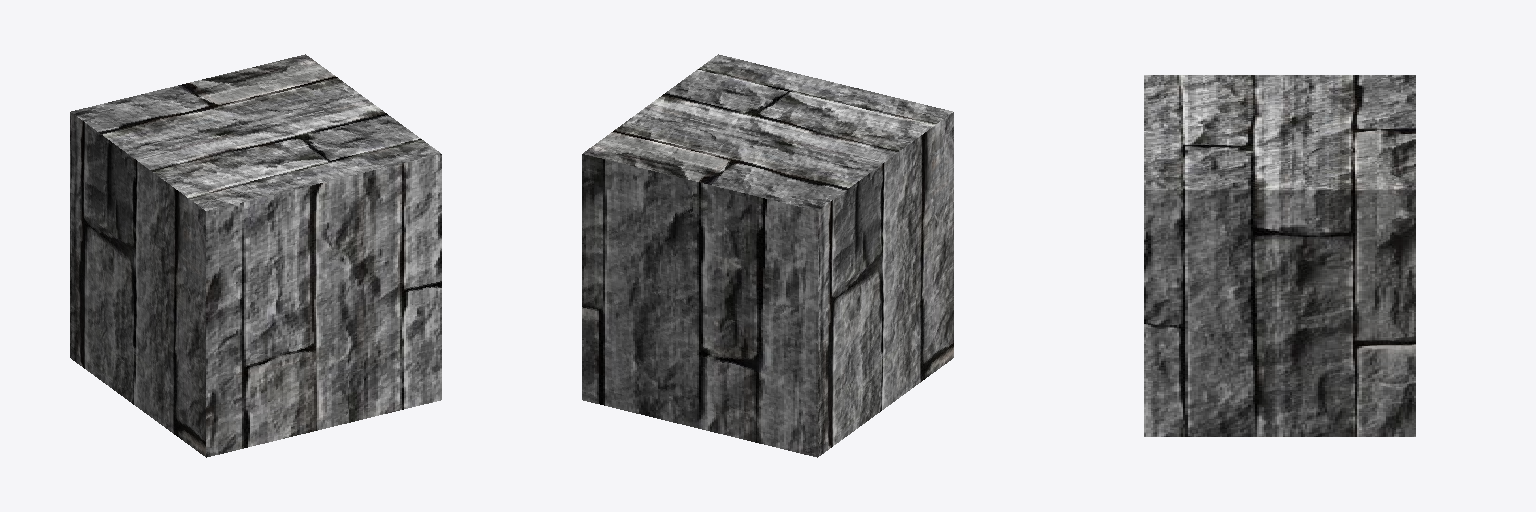
3 renders of one model, left to right at view 1: azimuth 30°, elevation 25°; view 2: azimuth 150°, elevation 25°; view 3: azimuth 270°, elevation 25°, orthographic.
Parts seen in each view (by area): view 1: Cube20; view 2: Cube20; view 3: Cube20.
Part boxes in pixels (left/top/right/bottom): Cube20: left=70, top=54, right=441, bottom=457; Cube20: left=582, top=54, right=953, bottom=457; Cube20: left=1144, top=75, right=1415, bottom=436.
Size of the model in its own units: 2 by 2 by 2.
1 materials, 1 textured.